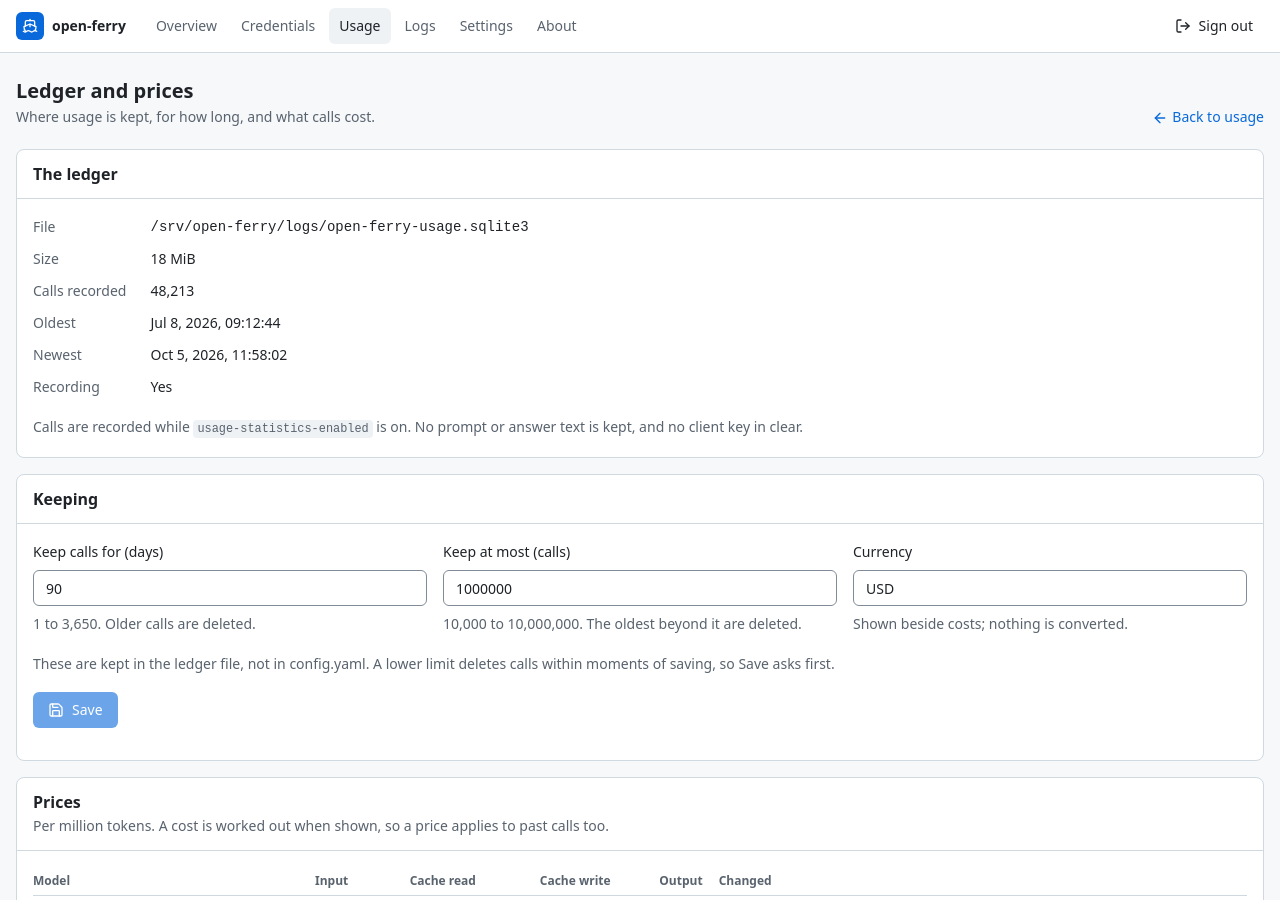
it: the Ledger and prices page › checks the settings as the server does
Replace the text in the field labelled "Keep at most (calls)" with "500" at {"x": 640, "y": 588}, box [443,570,837,606]
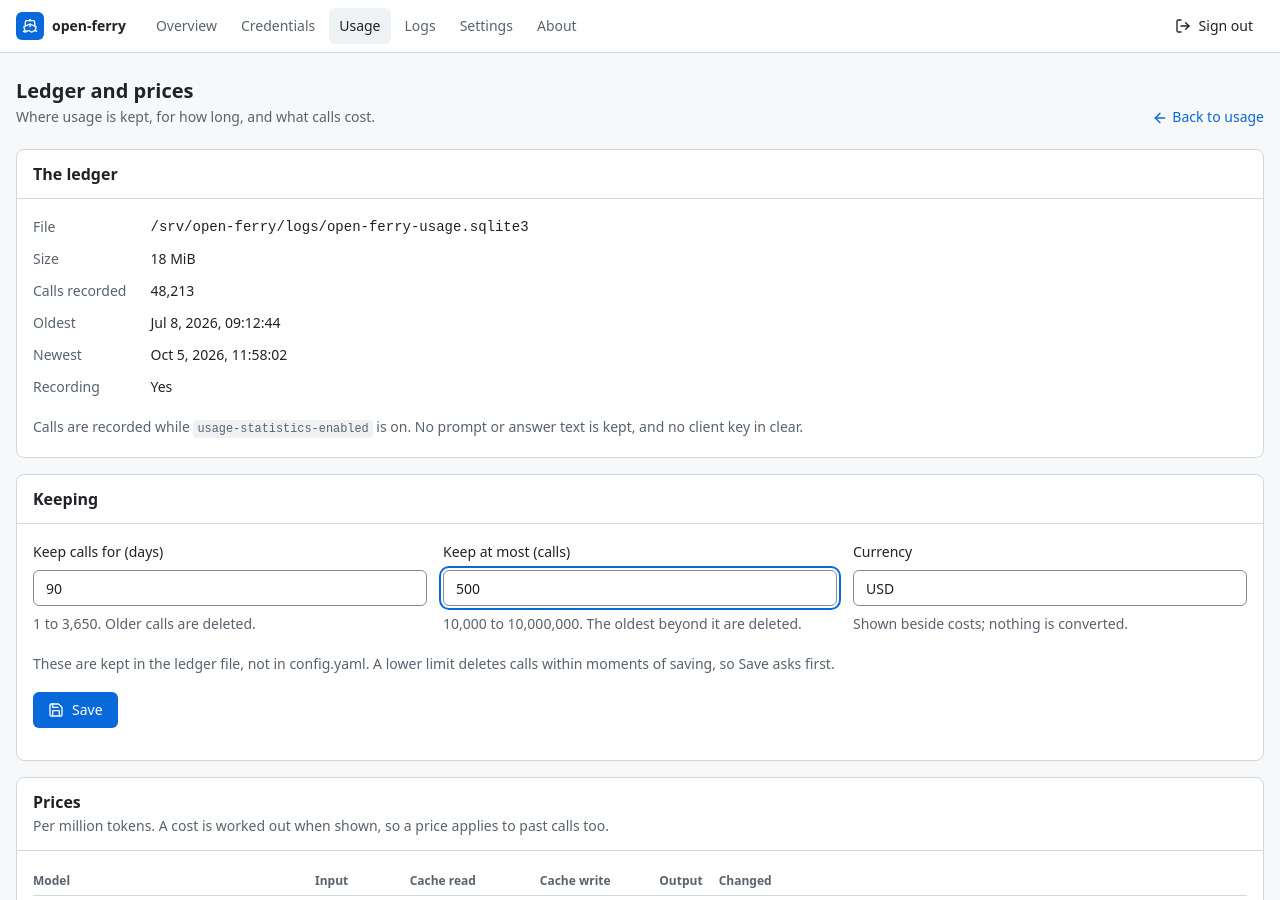
Replace the text in the field labelled "Currency" with "US$" at {"x": 1050, "y": 588}, box [853,570,1247,606]
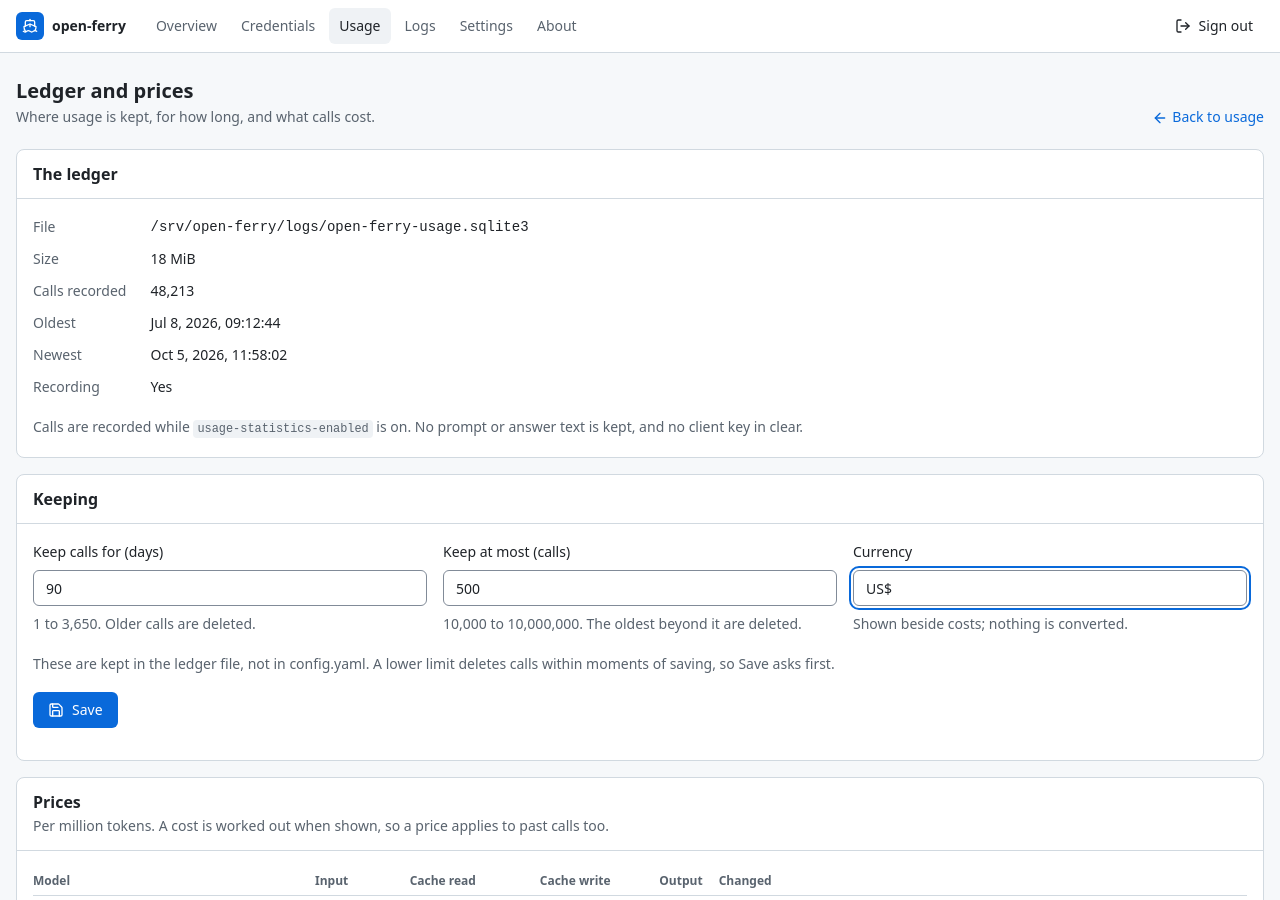
Click the button "Save" at {"x": 75, "y": 710}, box [33,692,118,728]
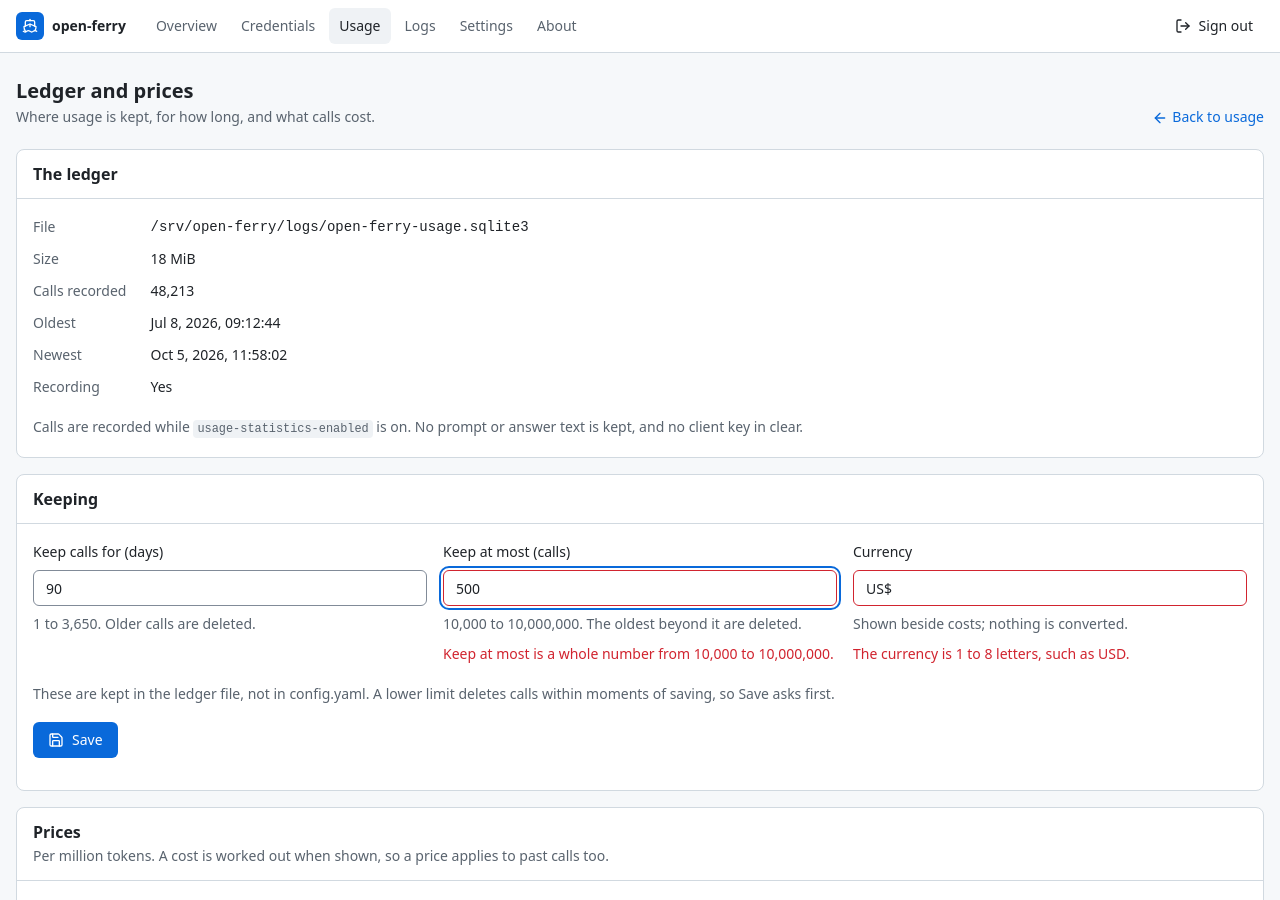
Now the text "Keep at most is a whole number from 10,000 to 10,000,000." is shown, box [443,642,837,666]
Now the text "The currency is 1 to 8 letters, such as USD." is shown, box [853,644,1129,663]
